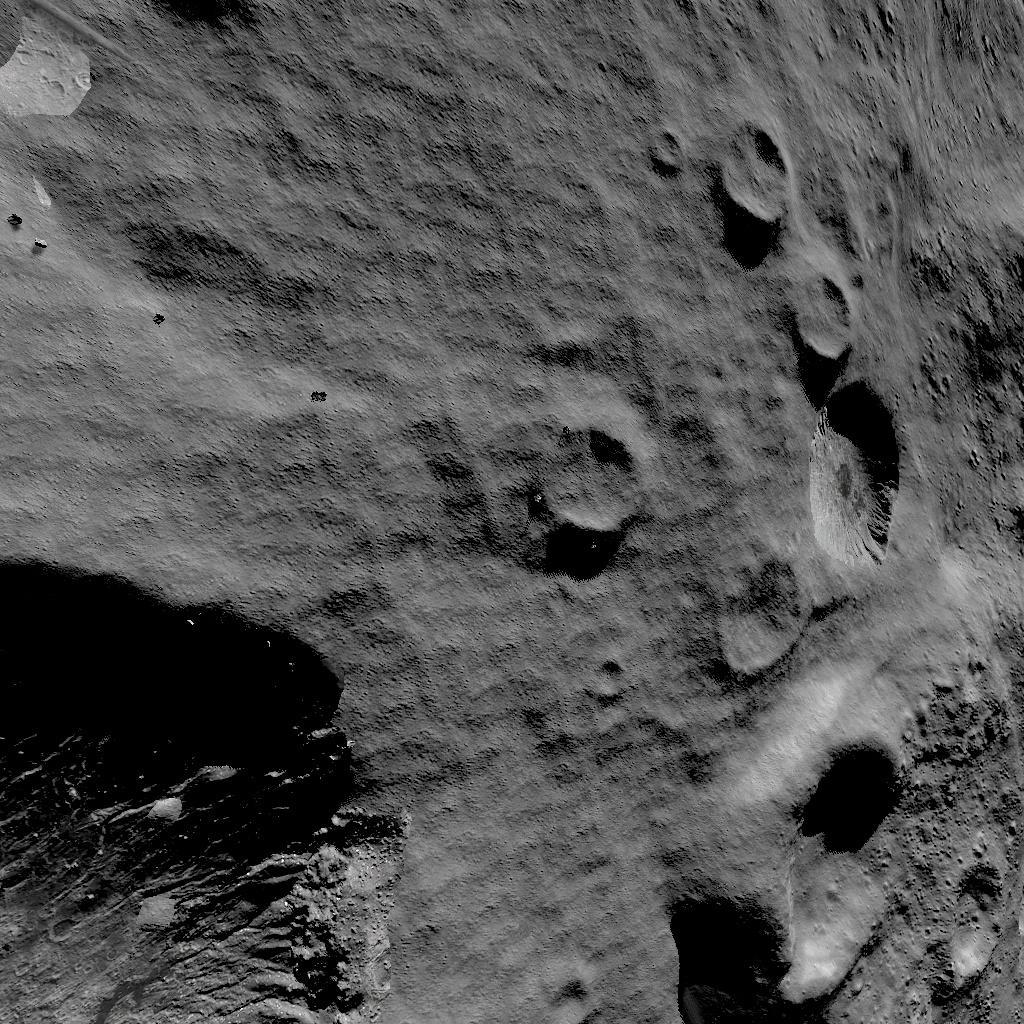Boulders: (0, 0, 101, 132)
Crater: (0, 556, 408, 1024), (663, 718, 901, 1022), (711, 378, 900, 663), (522, 416, 654, 546), (926, 837, 1024, 993), (709, 125, 802, 238), (785, 277, 858, 361), (523, 960, 594, 1022), (566, 650, 620, 703)
Plan surface: (120, 0, 504, 537)
